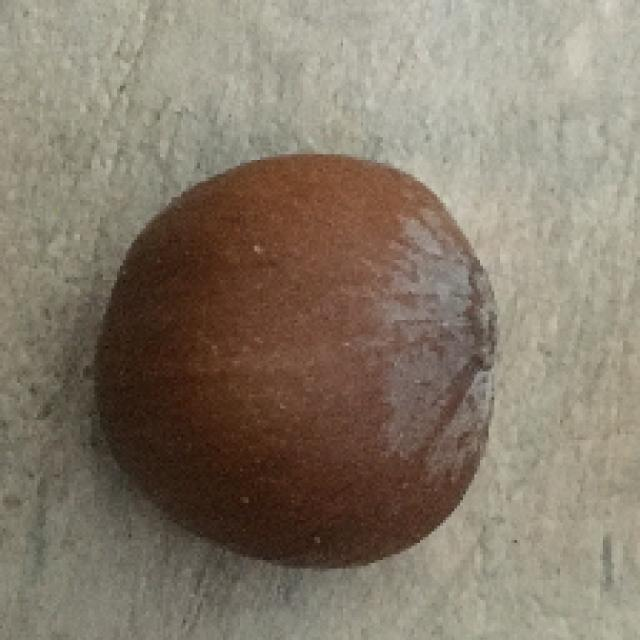qualityHazelnut: (88, 150, 504, 567)
